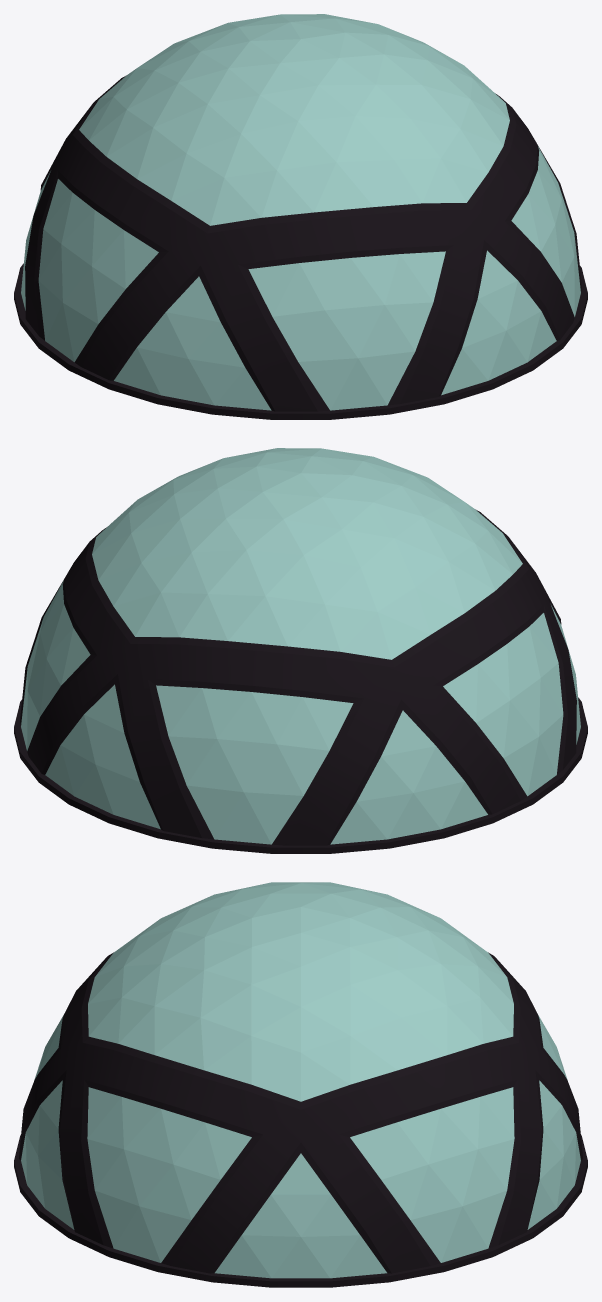
File: Dome.FBX
3 views of the same model, one above another, from view 1: azimuth 30°, elevation 25°; view 2: azimuth 150°, elevation 25°; view 3: azimuth 270°, elevation 25° (orthographic).
Visible parts, largest first — view 1: OutGlass, Iron, Cylinder001; view 2: OutGlass, Iron, Cylinder001; view 3: OutGlass, Iron, Cylinder001.
Boxes of the visible parts, bbox=[...] form: OutGlass: bbox=[21, 14, 580, 410]; Iron: bbox=[25, 75, 581, 411]; Cylinder001: bbox=[14, 263, 587, 419]; OutGlass: bbox=[21, 448, 580, 844]; Iron: bbox=[20, 509, 576, 845]; Cylinder001: bbox=[14, 697, 587, 853]; OutGlass: bbox=[21, 882, 580, 1278]; Iron: bbox=[19, 952, 582, 1273]; Cylinder001: bbox=[14, 1135, 587, 1287].
Bounding box in the file's own units: 816 × 410 × 820.
